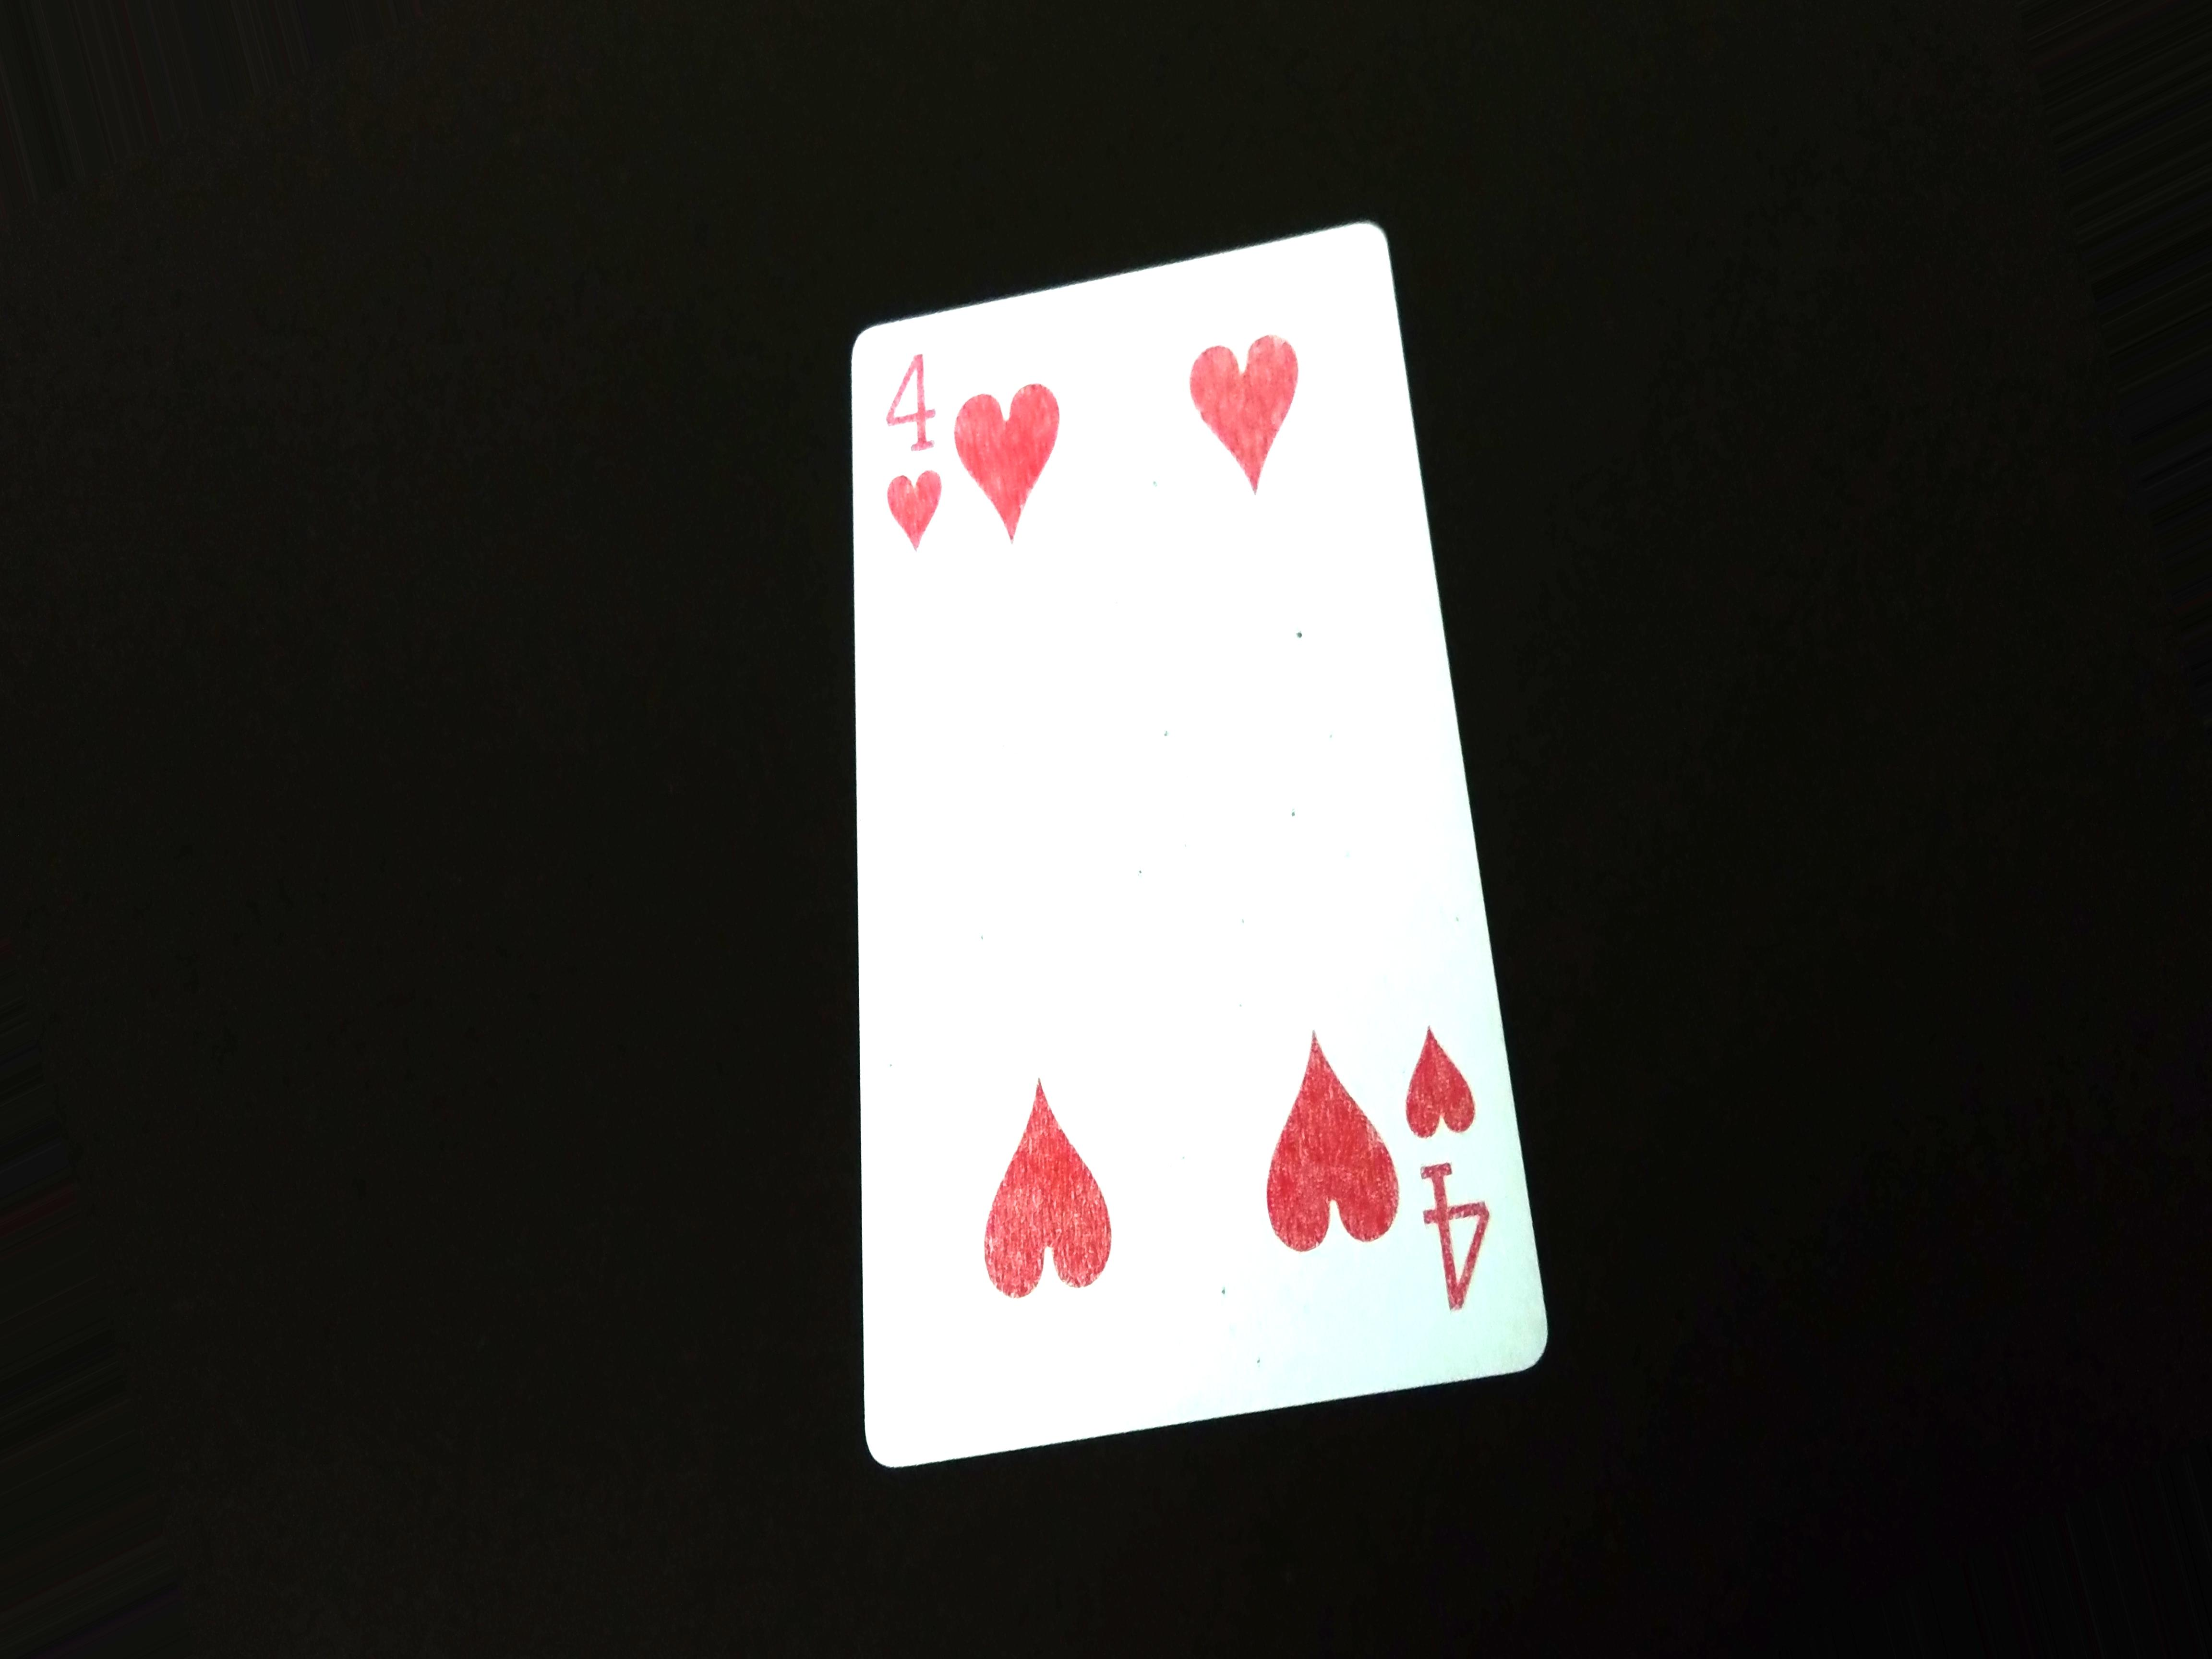4H: (1399, 1014, 1517, 1333)
